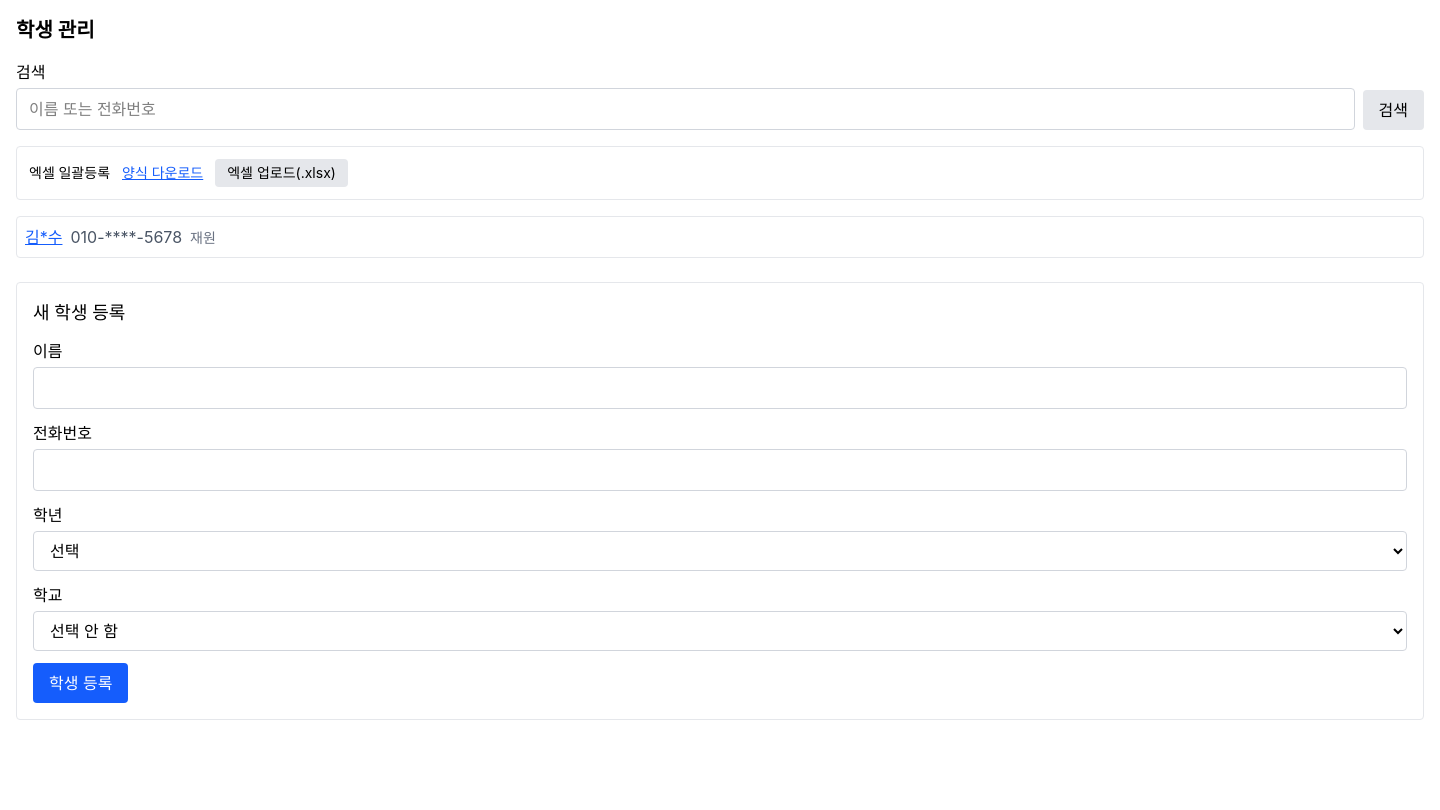
Test: StudentListPage › loads grade levels, the student list, and creates a new student
Expected: the link "김*수" is shown, [25,227,62,247]
Step 1. Type "새학생" into the field labelled "이름" → (720, 388), box [33,367,1407,409]
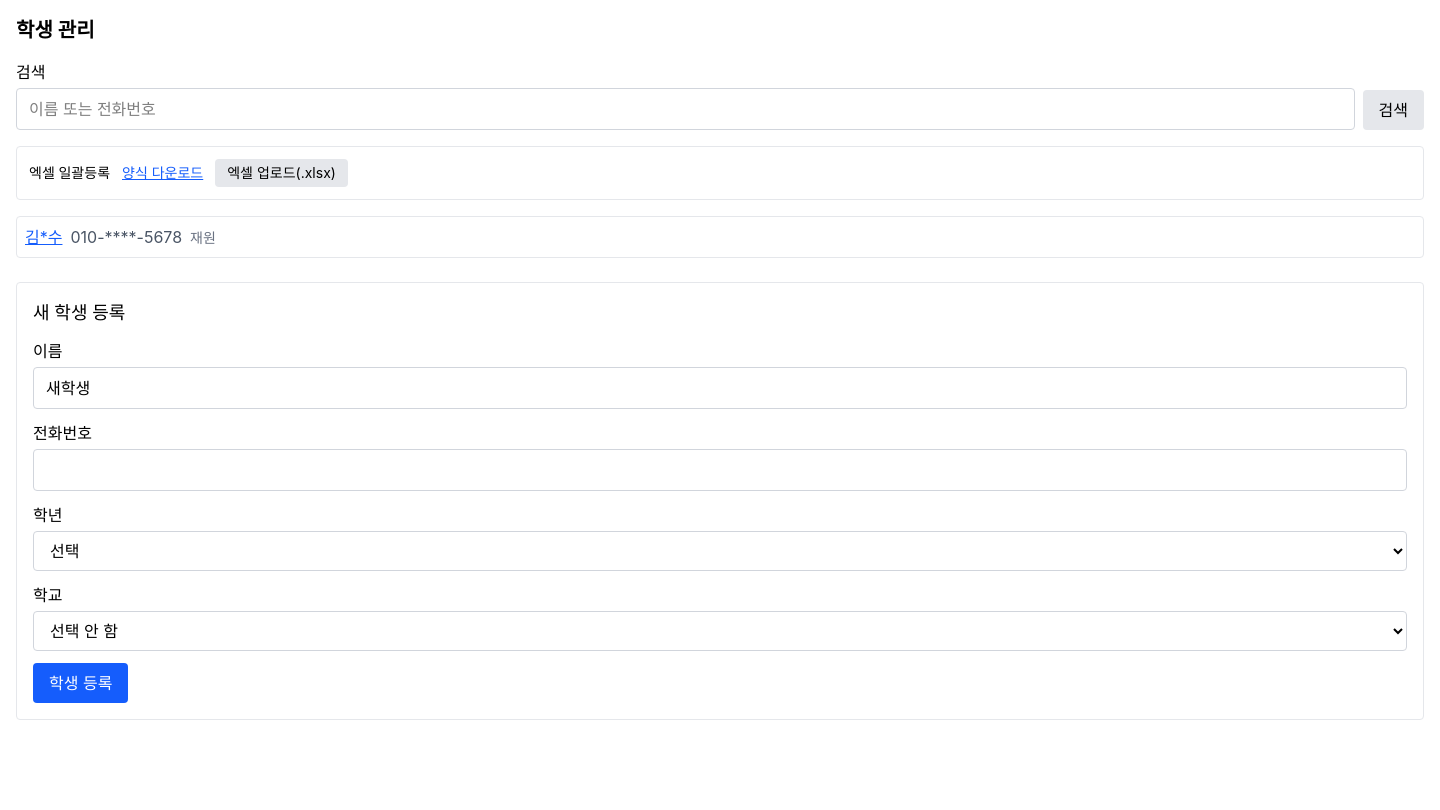
Step 2. Type "010-1111-2222" into the field labelled "전화번호" → (720, 470), box [33,449,1407,491]
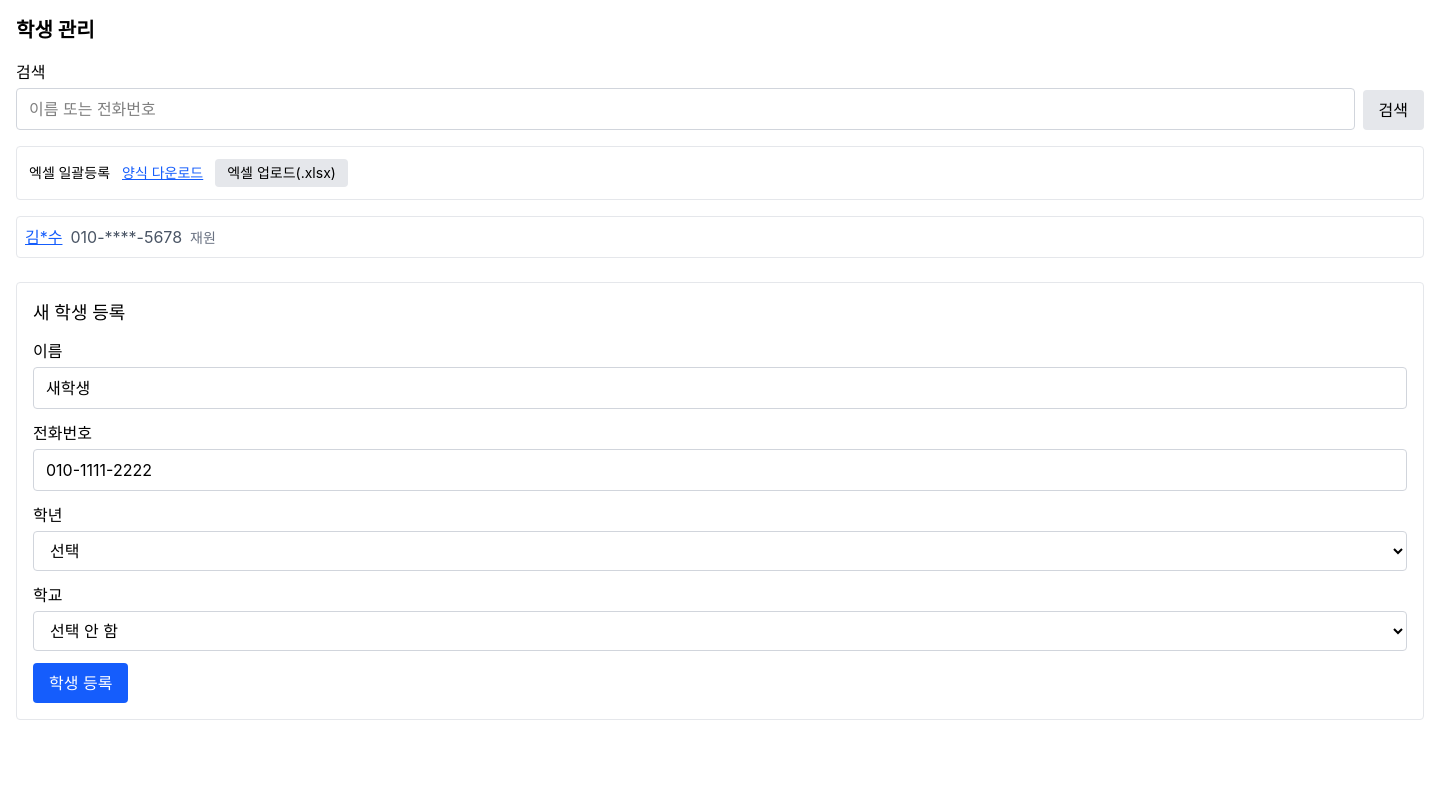
Step 3. Select "초1" in the dropdown labelled "학년" → (720, 551), box [33,531,1407,571]
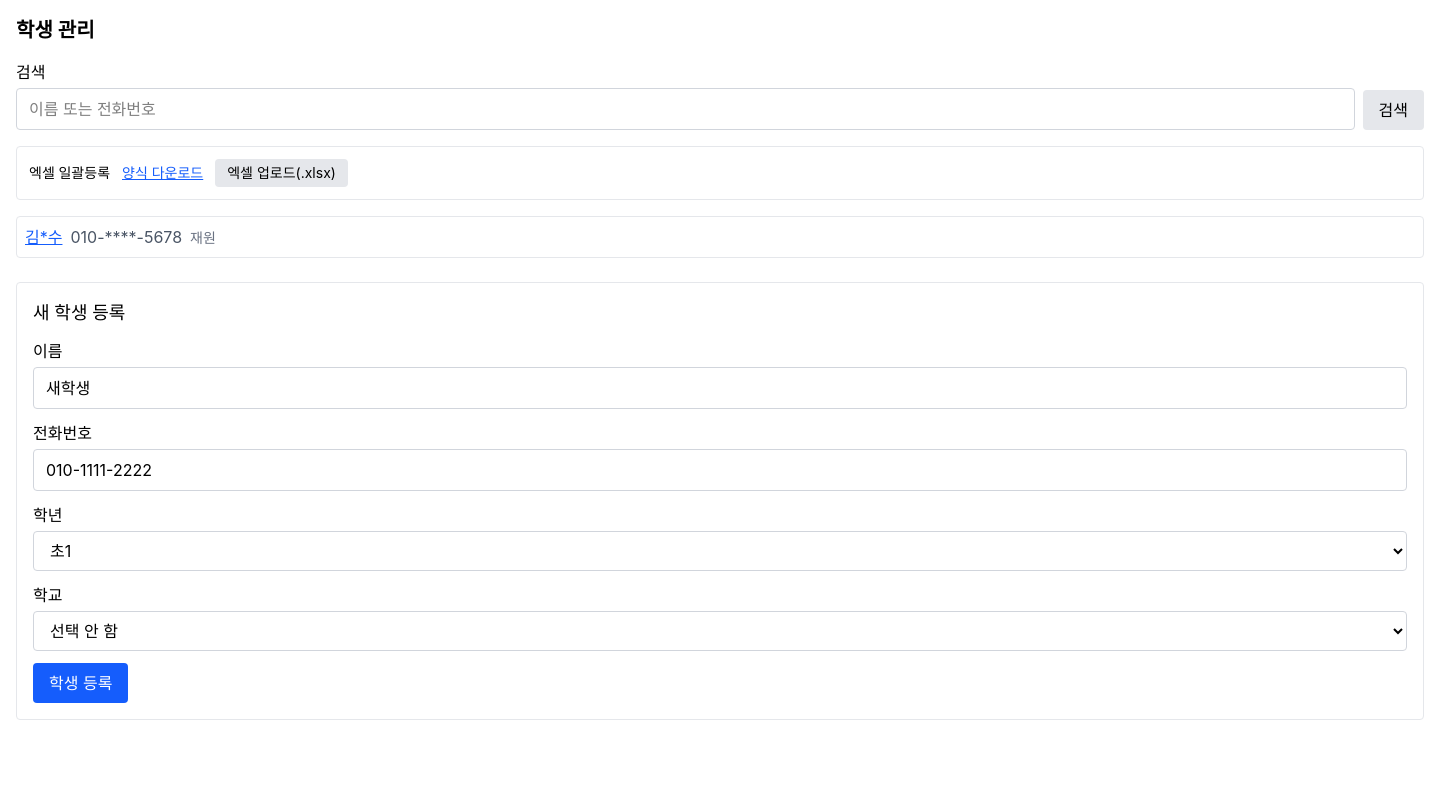
Step 4. Click the button "학생 등록" → (81, 683), box [33,663,128,703]
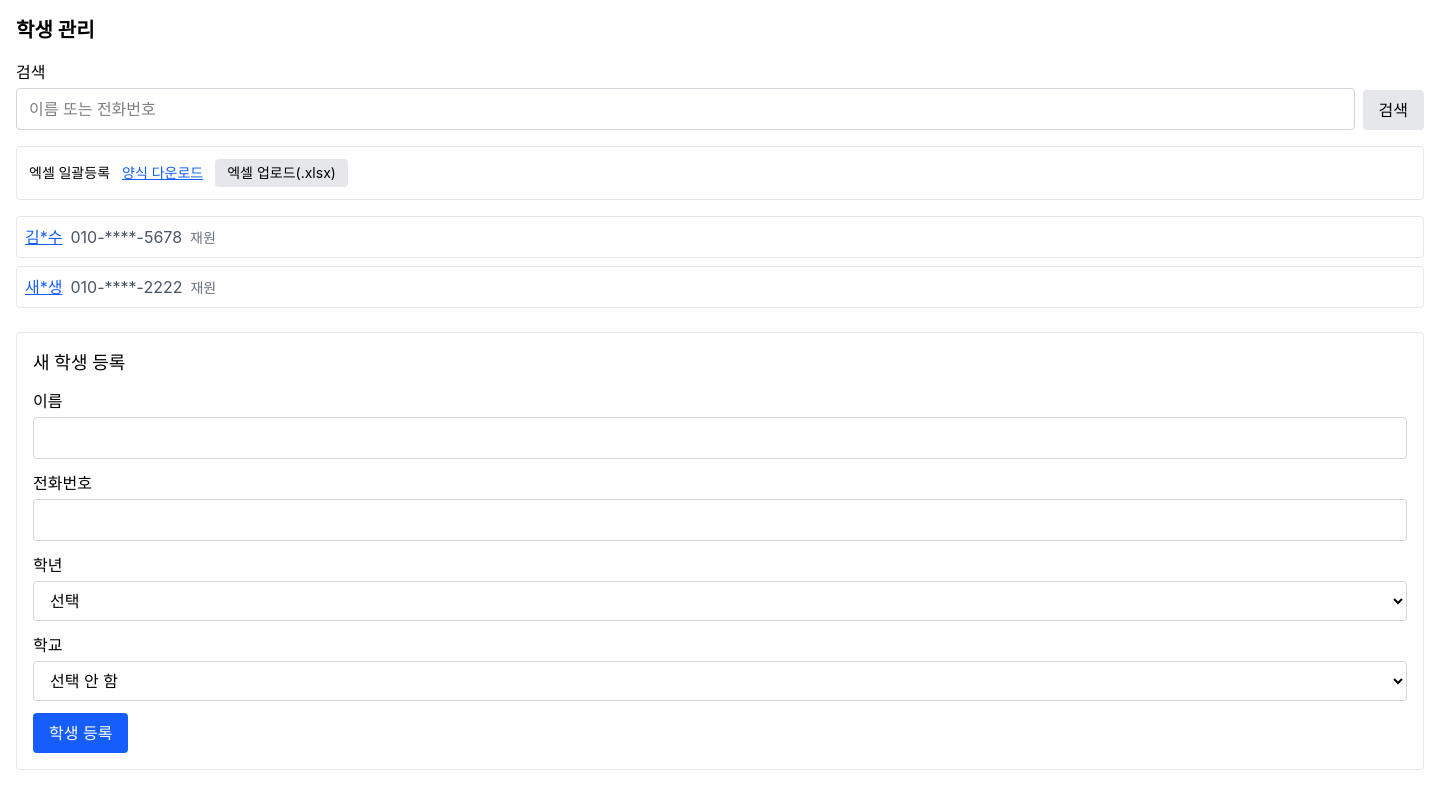
Expected: the link "새*생" is shown, [25,277,62,297]
